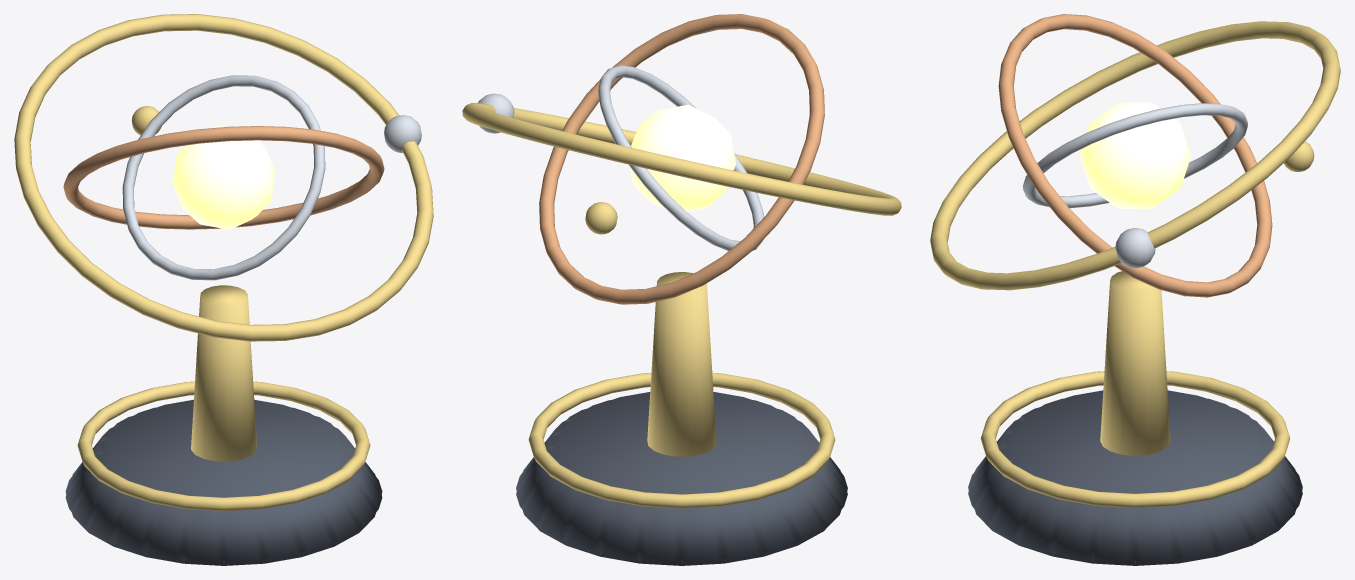
File: chrono-orrery.glb
3 views of the same model, side by side, from view 1: azimuth 30°, elevation 25°; view 2: azimuth 150°, elevation 25°; view 3: azimuth 270°, elevation 25° (orthographic). The views are drawn at different scales.
Parts seen in each view (by area): view 1: Base, Ring_Outer, Ring_Mid, Core_Orb, Ring_Inner; view 2: Base, Ring_Mid, Ring_Outer, Core_Orb, Ring_Inner; view 3: Base, Ring_Outer, Ring_Mid, Core_Orb, Ring_Inner.
Boxes of the visible parts, x1,y1,x2,y2 form: Base: [65, 285, 382, 565]; Ring_Outer: [14, 14, 433, 341]; Ring_Mid: [63, 106, 384, 229]; Core_Orb: [172, 125, 275, 229]; Ring_Inner: [122, 75, 325, 280]; Base: [516, 272, 847, 565]; Ring_Mid: [539, 14, 824, 304]; Ring_Outer: [462, 93, 901, 215]; Core_Orb: [630, 104, 735, 211]; Ring_Inner: [598, 65, 763, 250]; Base: [968, 271, 1302, 565]; Ring_Outer: [930, 21, 1340, 290]; Ring_Mid: [998, 14, 1314, 297]; Core_Orb: [1079, 102, 1191, 208]; Ring_Inner: [1023, 103, 1247, 208].
Size of the model in its own units: 1.83 by 1.93 by 1.62.
